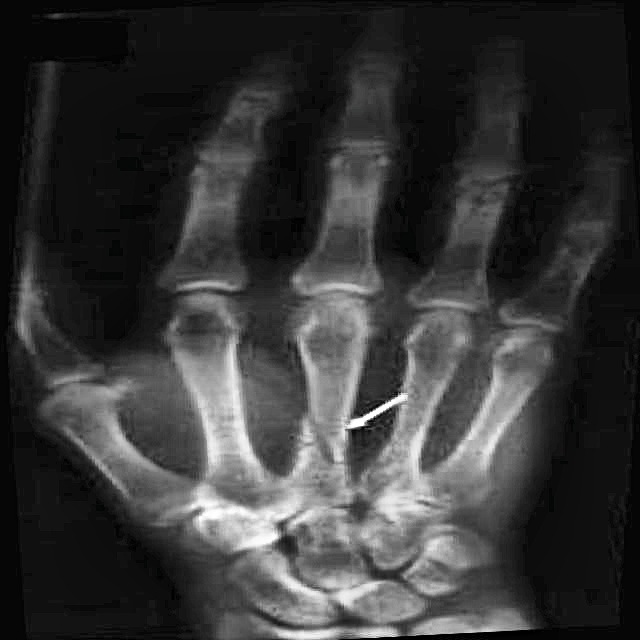Oblique Displaced: (278, 396, 364, 493)
